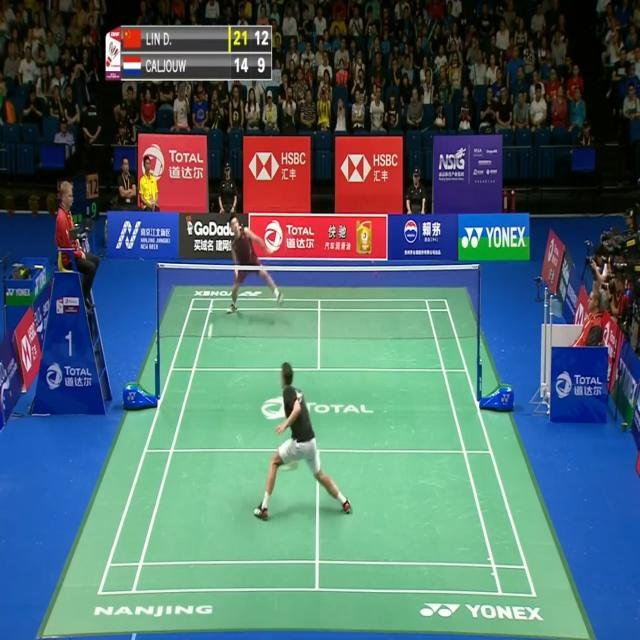Player1: (250, 360, 356, 526)
Player2: (214, 209, 292, 317)
